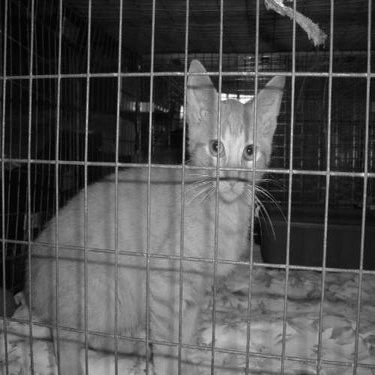cat: (24, 56, 285, 367)
